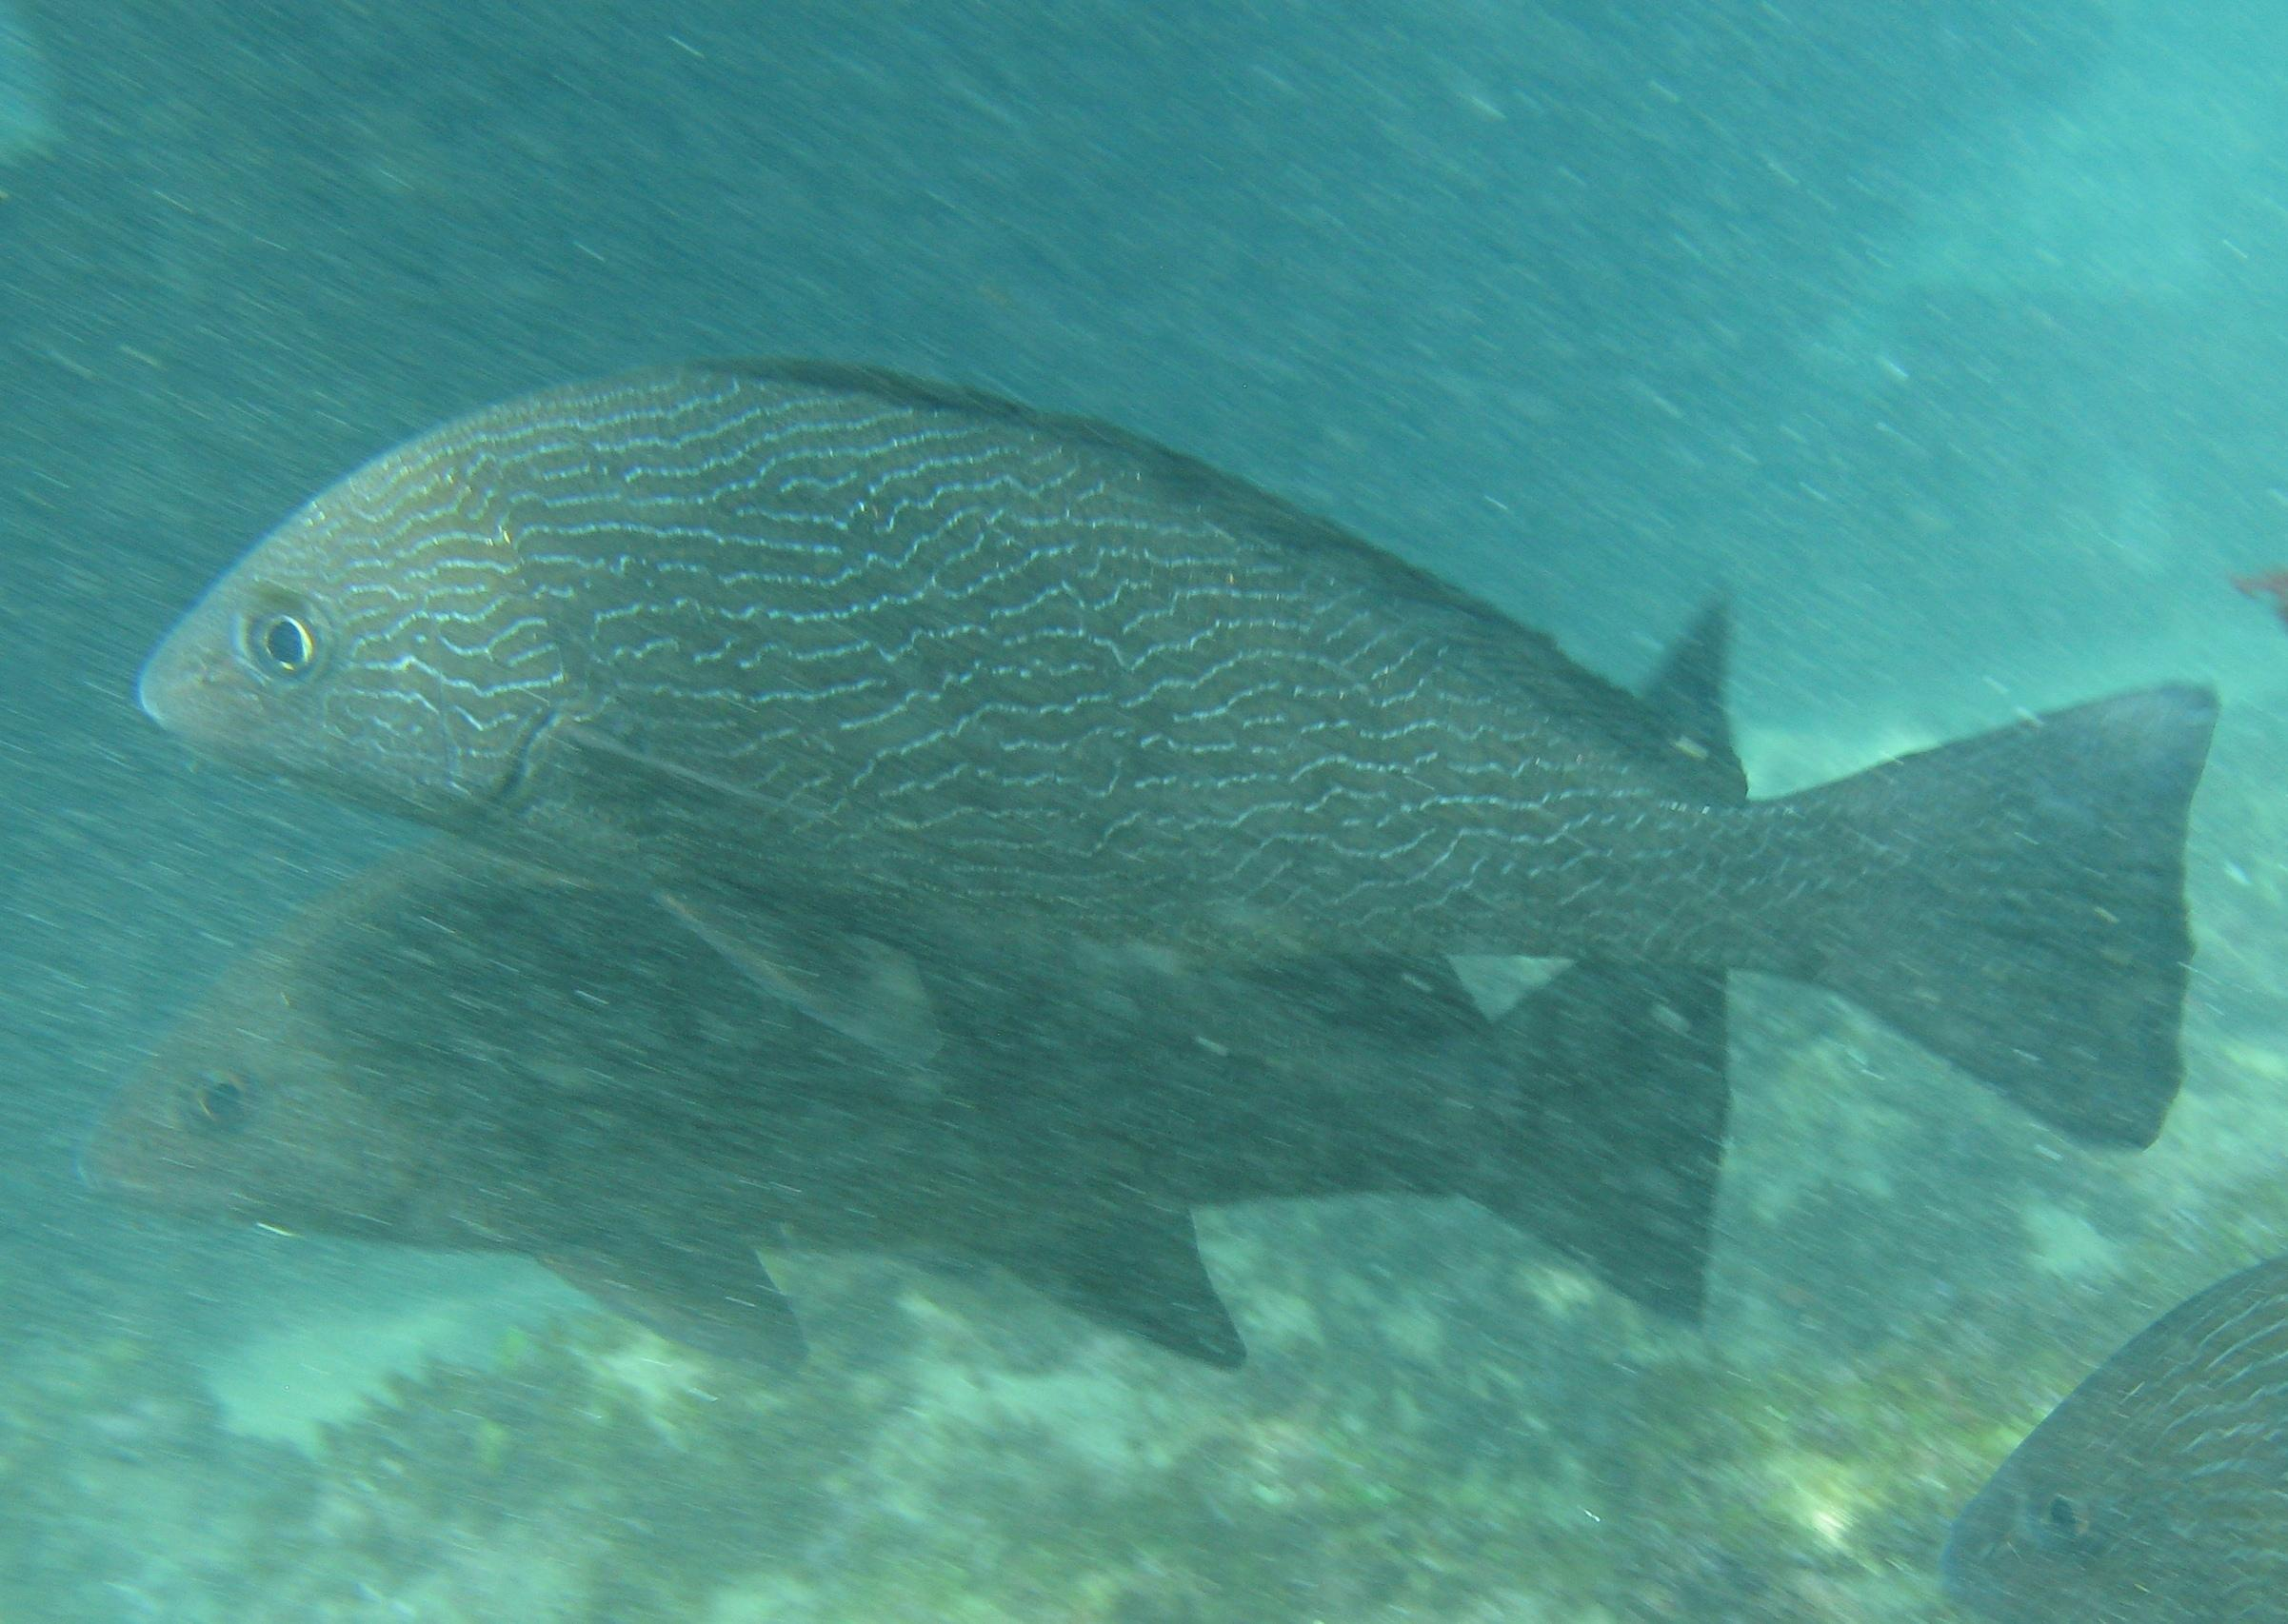Fish: (109, 308, 2228, 1204)
